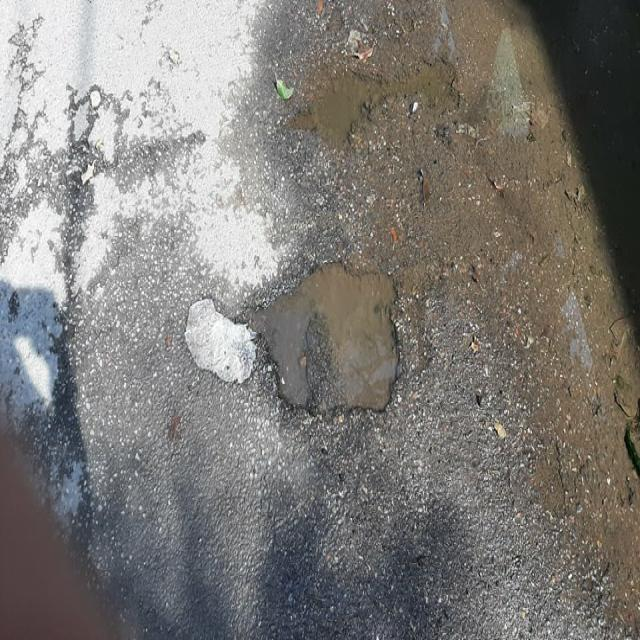Pothole: (214, 213, 437, 460)
